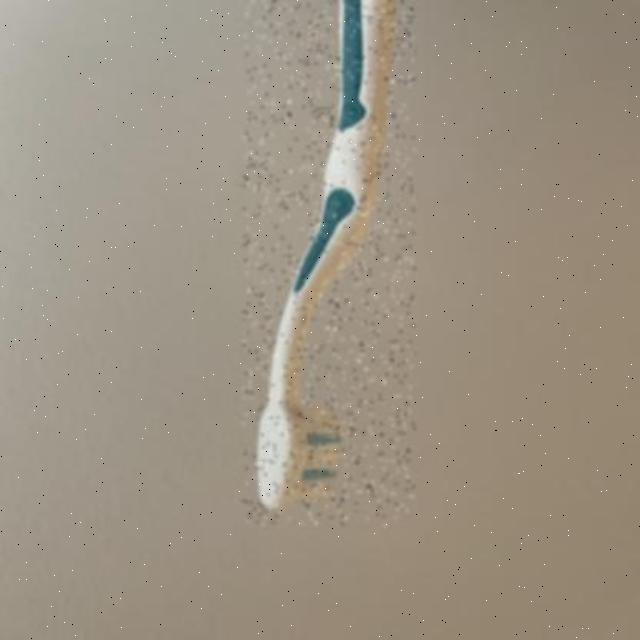toothbrush: (242, 0, 414, 526)
